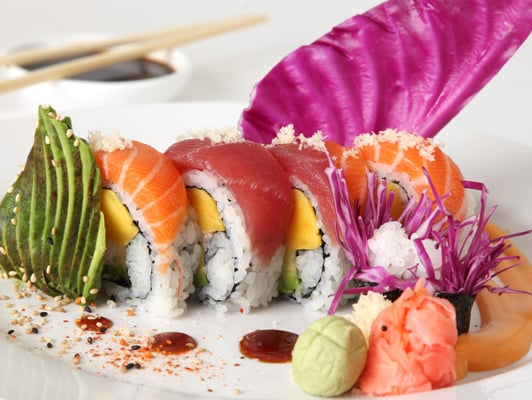sushi: (0, 104, 107, 302)
